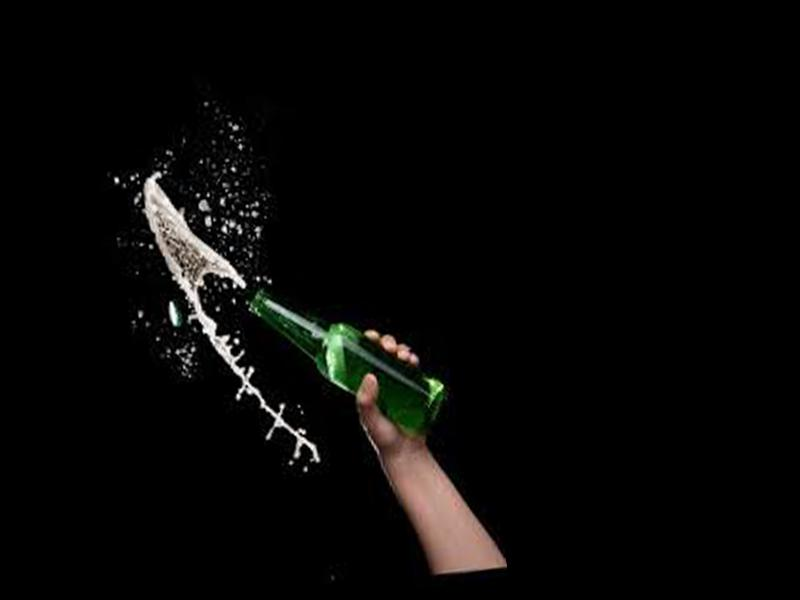Beer: (248, 265, 454, 457)
